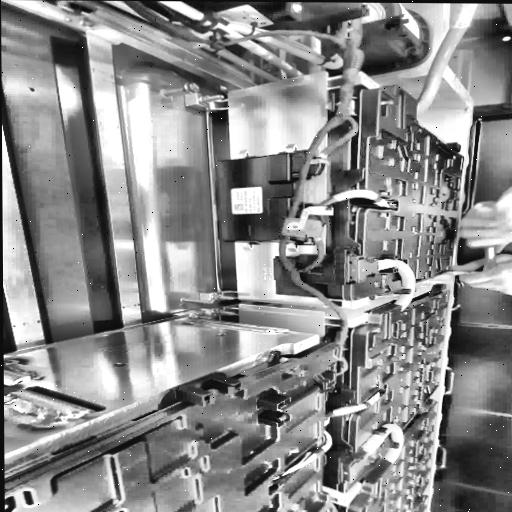high_volt_cable: (370, 260, 417, 312), (364, 418, 408, 471)
low_volt_cable: (248, 2, 381, 512)
